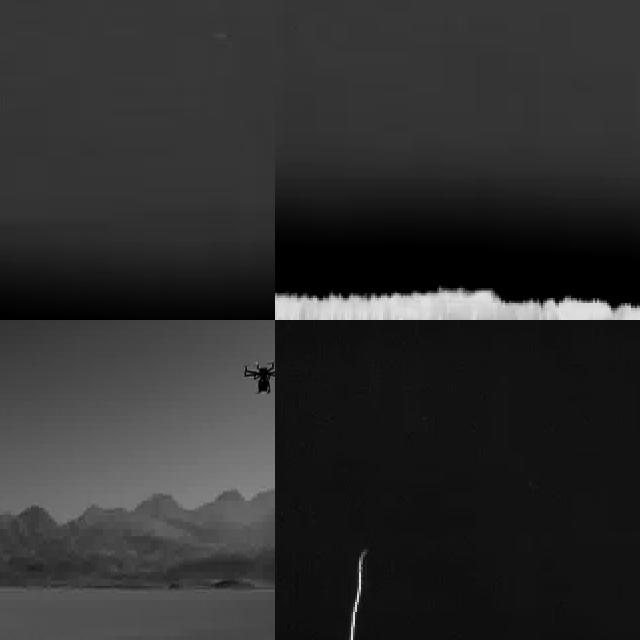0: (204, 24, 230, 54)
drone: (243, 359, 275, 397)
